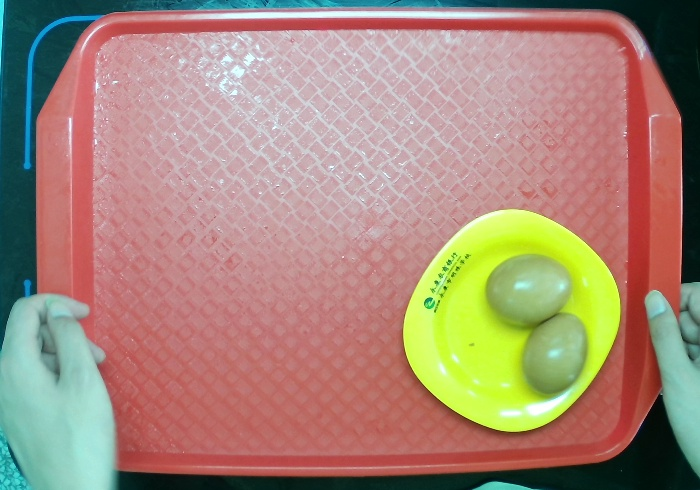YKMZ-Huang_Se_Fang_Die: (397, 205, 627, 437)
